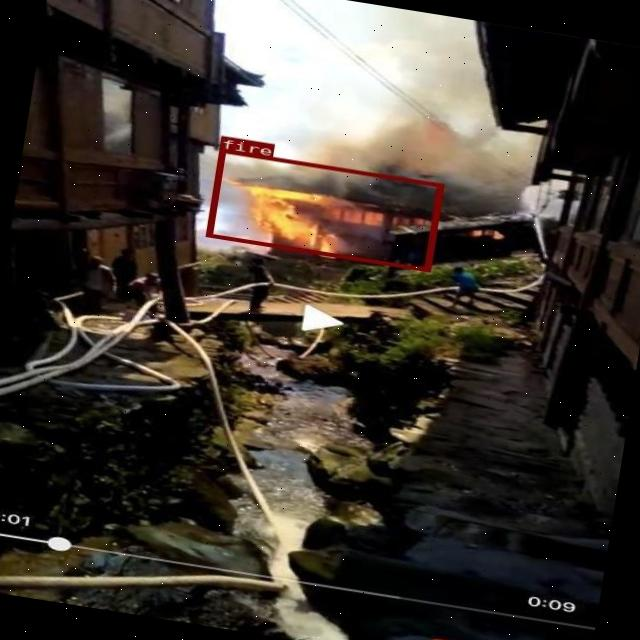fire: (205, 148, 443, 271)
